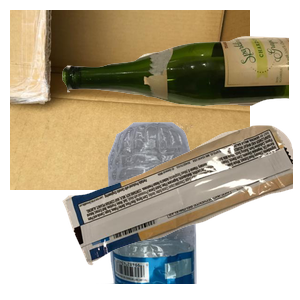cardboard: (10, 10, 250, 190)
glass: (60, 34, 300, 133)
plastic: (96, 120, 285, 300)
trash: (60, 123, 300, 300)
